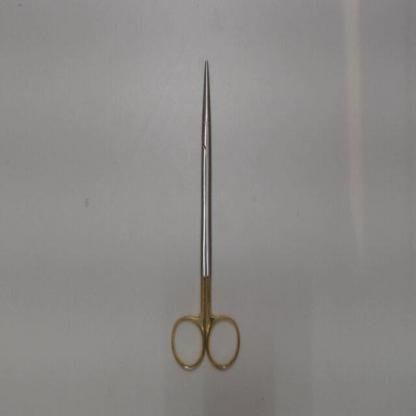7 Metzenbaum Scissors: (169, 59, 242, 374)
